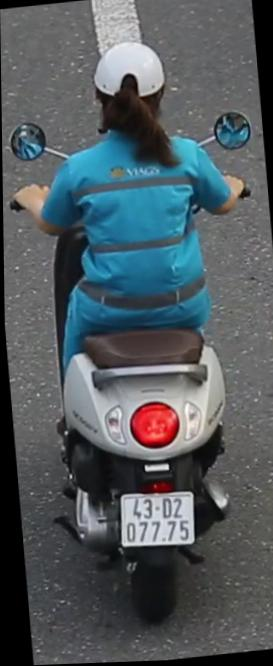LP: (113, 480, 199, 560)
helmet: (80, 26, 177, 176)
